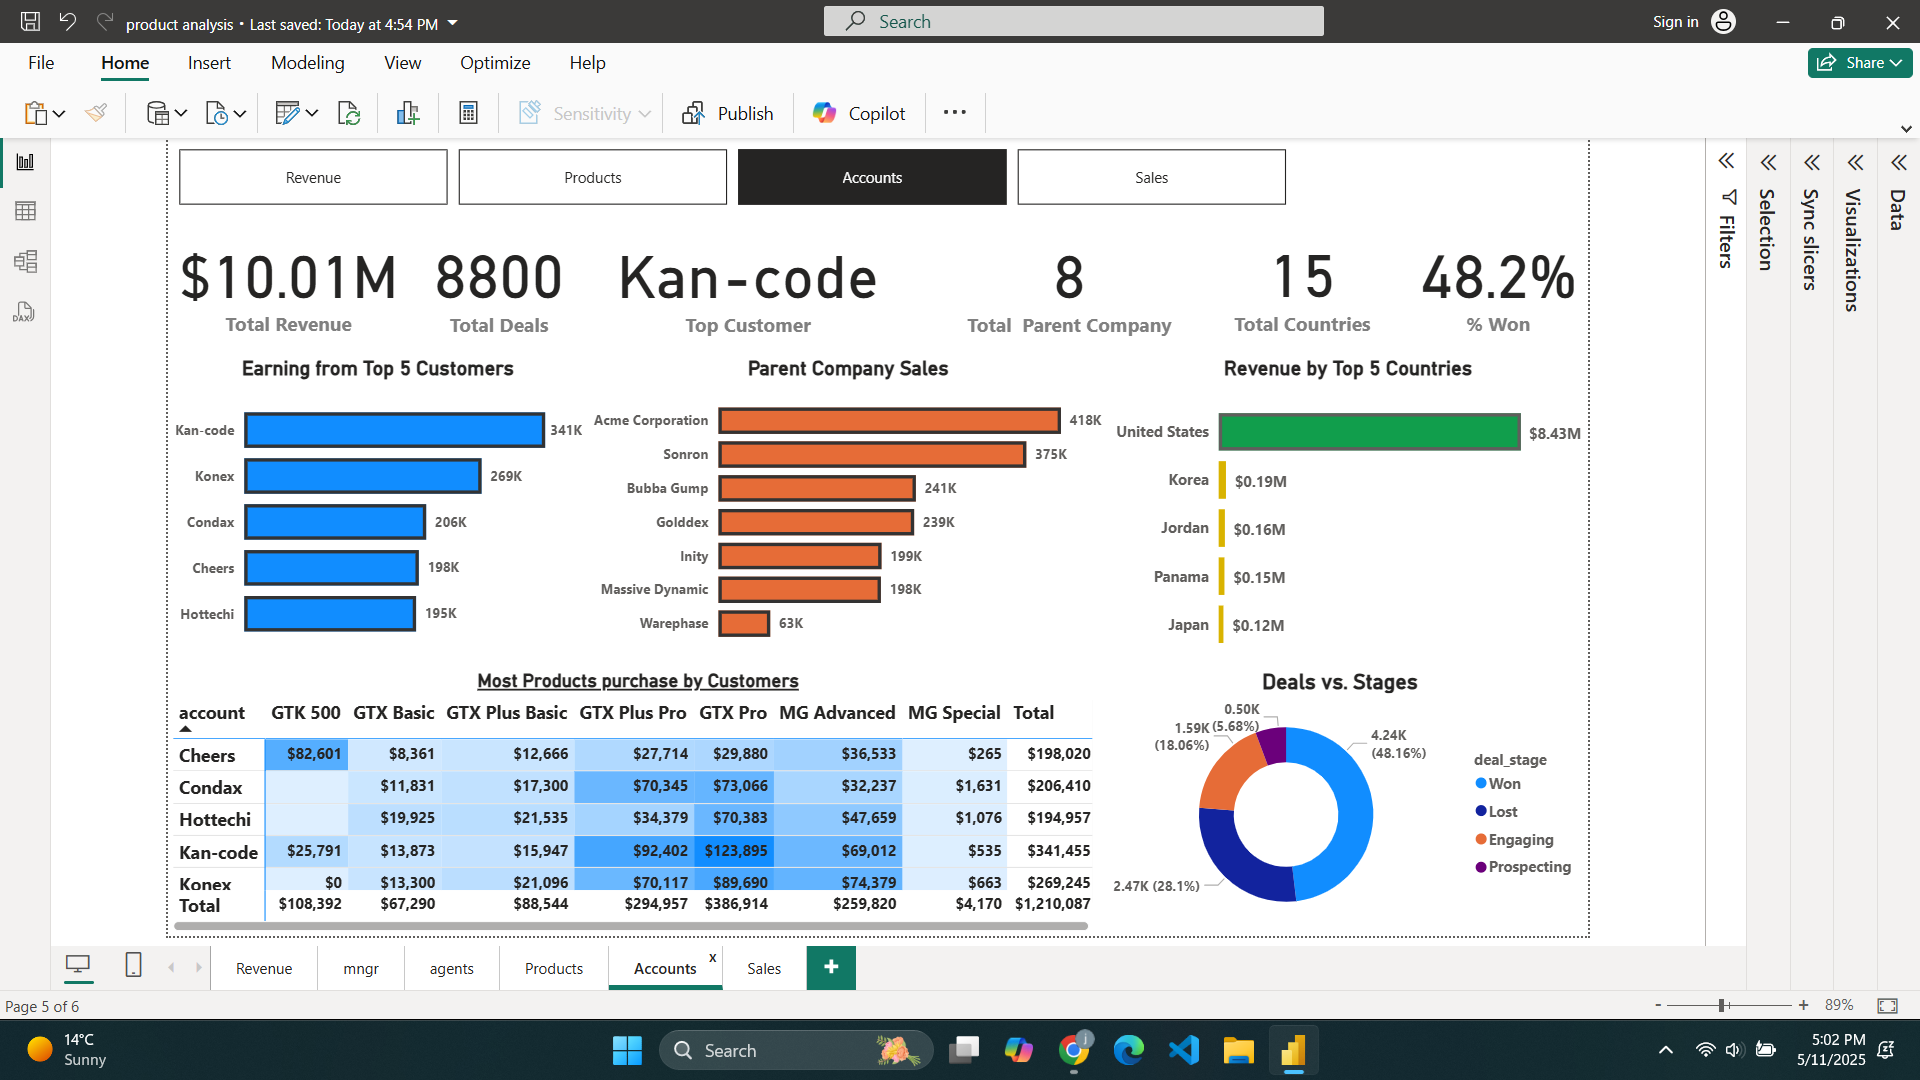

What the dashboard file says about the page in this screenshot:
{"tool":"powerbi","page":{"name":"Accounts","canvas":[1280,720],"ordinal":4},"visuals":[{"type":"card","fields":{"Values":["CountNonNull(sales_pipeline.deal_stage)"]},"box":[218.5,71.5,160,117.1],"z":0},{"type":"card","fields":{"Values":["Sum(sales_pipeline.close_value)"]},"box":[-0.1,71.5,218.2,116.7],"z":1000},{"type":"card","fields":{"Values":["sales_pipeline.Win Percentage"]},"box":[1118.7,71.5,161.2,116.7],"z":2000},{"type":"barChart","title":"Earning from Top 5 Customers","fields":{"Category":["accounts.account"],"Y":["Sum(sales_pipeline.close_value)"]},"box":[0,197.4,378.6,270.6],"z":3000},{"type":"barChart","title":"Revenue by Top 5 Countries","fields":{"Y":["Sum(sales_pipeline.close_value)"],"Category":["accounts.office_location"],"Series":["accounts.office_location (groups)"]},"box":[849,197.4,430.7,281.8],"z":4000},{"type":"barChart","title":"Parent Company Sales","fields":{"Category":["accounts.parent company"],"Y":["Sum(sales_pipeline.close_value)"]},"box":[377.4,197.4,471.7,270.6],"z":5000},{"type":"pivotTable","title":"Most Products purchase by Customers","fields":{"Rows":["accounts.account"],"Columns":["products.product"],"Values":["Sum(sales_pipeline.close_value)"]},"box":[0,479.1,847.8,240.8],"z":6000},{"type":"donutChart","title":"Deals vs. Stages","fields":{"Category":["sales_pipeline.deal_stage"],"Y":["sales_pipeline.dealscount"]},"box":[834.1,479.1,445.6,240.8],"z":7000},{"type":"card","fields":{"Values":["sales_pipeline.Top Customer"]},"box":[378.1,71.5,291.8,117.7],"z":8000},{"type":"card","fields":{"Values":["Count(accounts.office_location)"]},"box":[928.1,71.5,190.9,115.3],"z":9000},{"type":"card","fields":{"Values":["Count(accounts.parent company)"]},"box":[699.3,71.5,228.6,117.4],"z":10000},{"type":"pageNavigator","box":[10,10,1000,50],"z":11000}]}

Visuals, with their boxes on the page's 1280x720 design canvas (x1, y1, x2, y2). These are canvas units, not pixel positions in the 1920x1080 screenshot, which may show the page scaled, cropped or inside an application window:
card - CountNonNull(sales_pipeline.deal_stage): (x1=218, y1=72, x2=378, y2=189)
card - Sum(sales_pipeline.close_value): (x1=0, y1=72, x2=218, y2=188)
card - sales_pipeline.Win Percentage: (x1=1119, y1=72, x2=1280, y2=188)
"Earning from Top 5 Customers" barChart: (x1=0, y1=197, x2=379, y2=468)
"Revenue by Top 5 Countries" barChart: (x1=849, y1=197, x2=1280, y2=479)
"Parent Company Sales" barChart: (x1=377, y1=197, x2=849, y2=468)
"Most Products purchase by Customers" pivotTable: (x1=0, y1=479, x2=848, y2=720)
"Deals vs. Stages" donutChart: (x1=834, y1=479, x2=1280, y2=720)
card - sales_pipeline.Top Customer: (x1=378, y1=72, x2=670, y2=189)
card - Count(accounts.office_location): (x1=928, y1=72, x2=1119, y2=187)
card - Count(accounts.parent company): (x1=699, y1=72, x2=928, y2=189)
pageNavigator: (x1=10, y1=10, x2=1010, y2=60)
